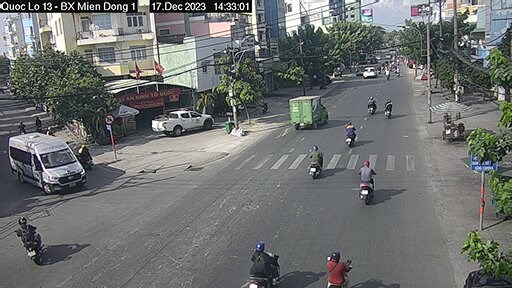car: (9, 133, 86, 190), (148, 109, 217, 134), (363, 62, 377, 79)
motorbike: (238, 242, 284, 288), (13, 215, 45, 267), (356, 158, 381, 207), (307, 146, 326, 181), (338, 121, 360, 146), (365, 93, 378, 116)
truck: (289, 95, 331, 129)
